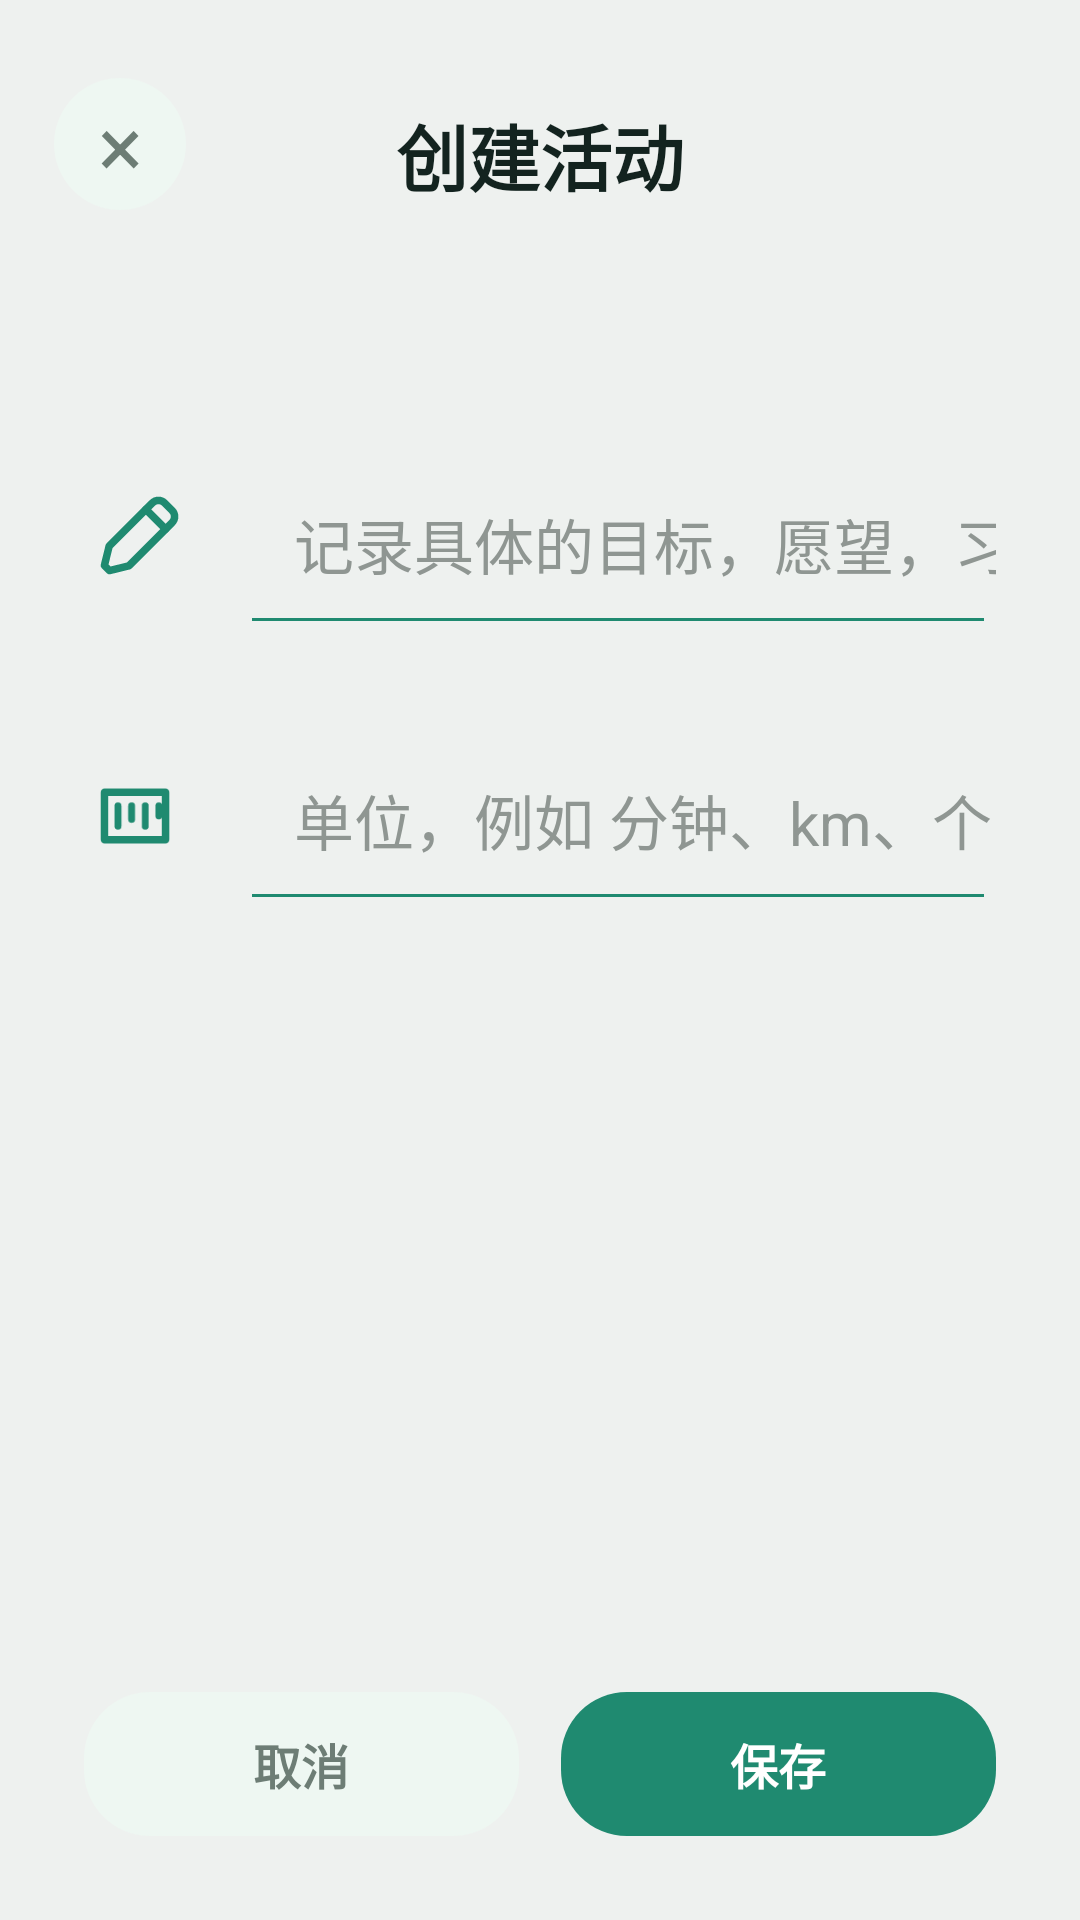

Named icons in this screenshot (1080w x 1920h) and their bounding boxes, rect(x1, y1, x2, y2):
计量单位: rect(100, 788, 170, 844)
